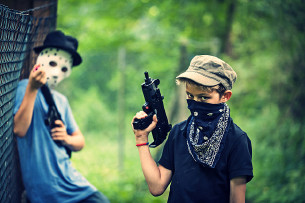face_mask: (185, 80, 221, 121)
